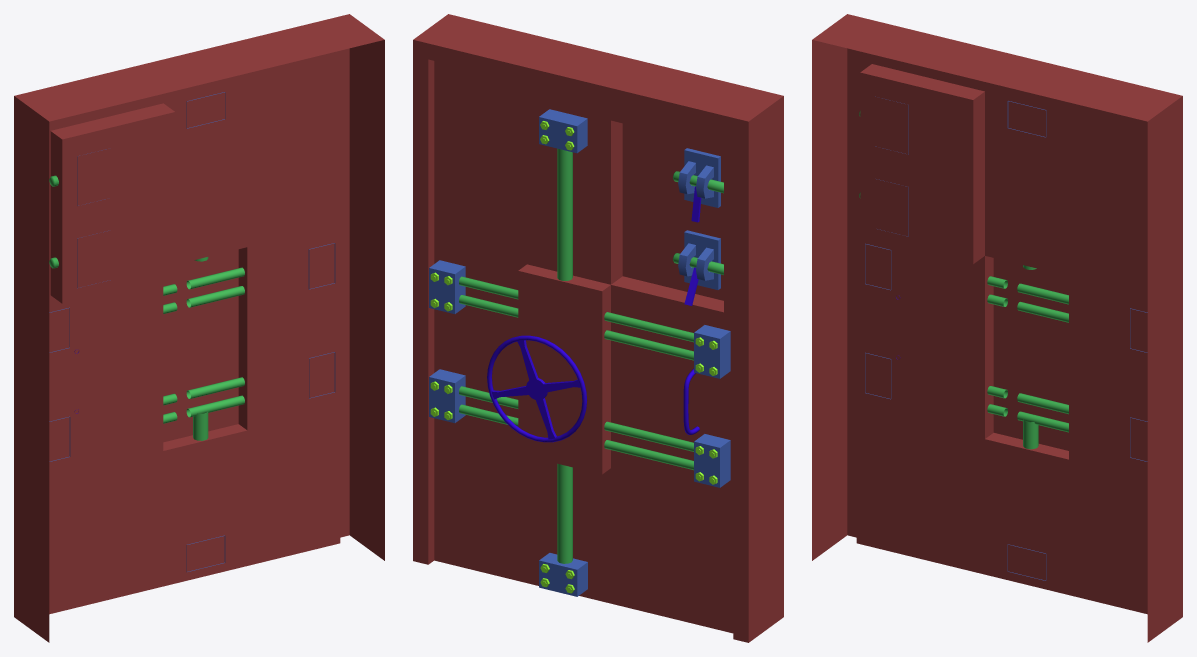
Rendered from porte.FBX.
3 views of the same model, side by side, from view 1: azimuth 30°, elevation 25°; view 2: azimuth 150°, elevation 25°; view 3: azimuth 330°, elevation 25° (orthographic).
Parts seen in each view (by area): view 1: Box001; view 2: Box001; view 3: Box001.
Part boxes in pixels (x1=…): Box001: x1=14, y1=14, x2=384, y2=642; Box001: x1=413, y1=14, x2=783, y2=642; Box001: x1=812, y1=14, x2=1182, y2=642.
Size of the model in its own units: 132 by 196 by 28.87.
